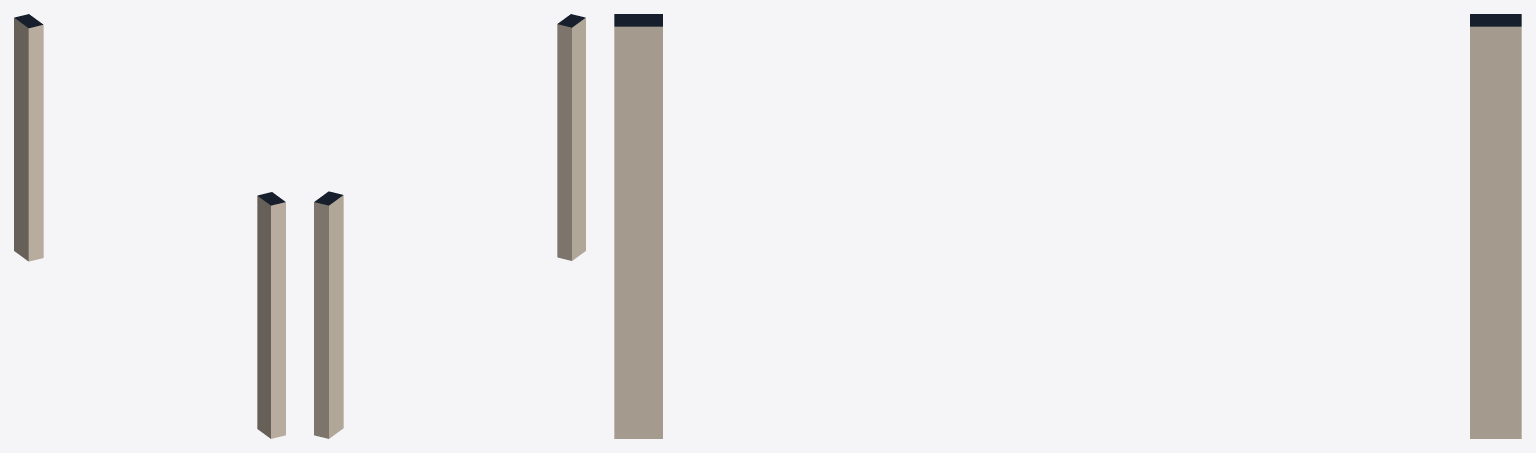
Rendered from Porte_Double_Mur2.FBX.
3 views of the same model, side by side, from view 1: azimuth 30°, elevation 25°; view 2: azimuth 150°, elevation 25°; view 3: azimuth 270°, elevation 25° (orthographic). The views are drawn at different scales.
Parts seen in each view (by area): view 1: Porte_Double_Mur2; view 2: Porte_Double_Mur2; view 3: Porte_Double_Mur2.
Part boxes in pixels (bbox=[...]): Porte_Double_Mur2: bbox=[14, 14, 285, 438]; Porte_Double_Mur2: bbox=[314, 14, 585, 438]; Porte_Double_Mur2: bbox=[614, 14, 1521, 438].
Bounding box in the file's own units: 0.1 × 1.5 × 2.99.
